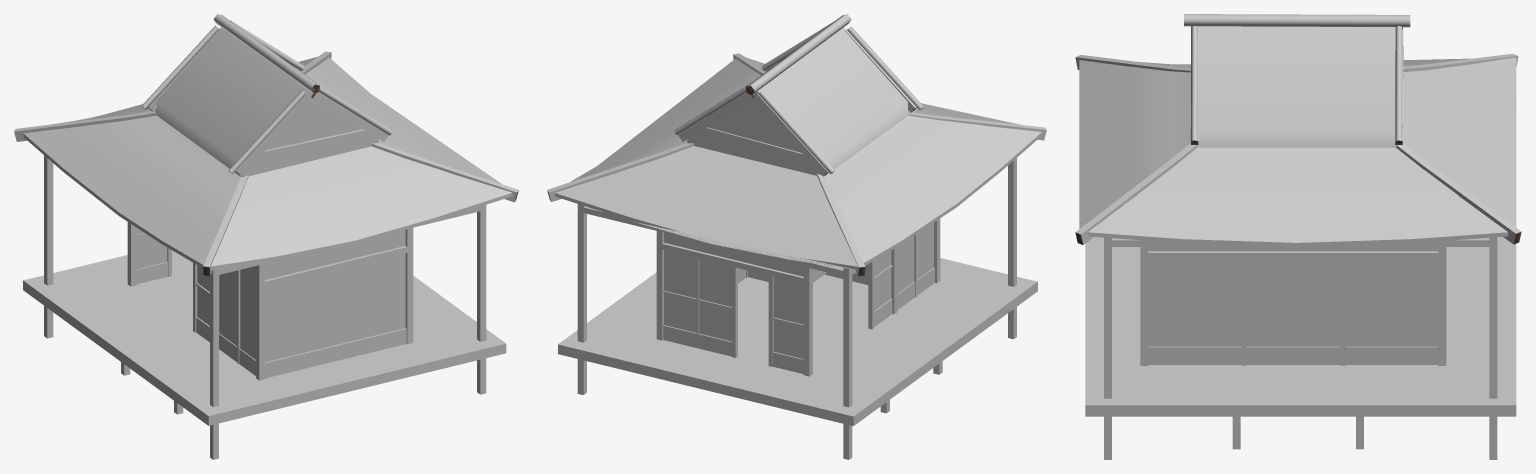
Rendered from building_08 lod2.fbx.
The picture shows the model from 3 angles, left to right: view 1: azimuth 30°, elevation 25°; view 2: azimuth 150°, elevation 25°; view 3: azimuth 270°, elevation 25°; orthographic projection. The views are drawn at different scales.
Visible parts, largest first — view 1: polySurface3041; view 2: polySurface3041; view 3: polySurface3041.
Part boxes in pixels (x1,y1,x2,y2): polySurface3041: [14, 14, 518, 459]; polySurface3041: [547, 14, 1046, 459]; polySurface3041: [1075, 14, 1521, 459].
Bounding box in the file's own units: 12.93 × 12.28 × 13.48.
